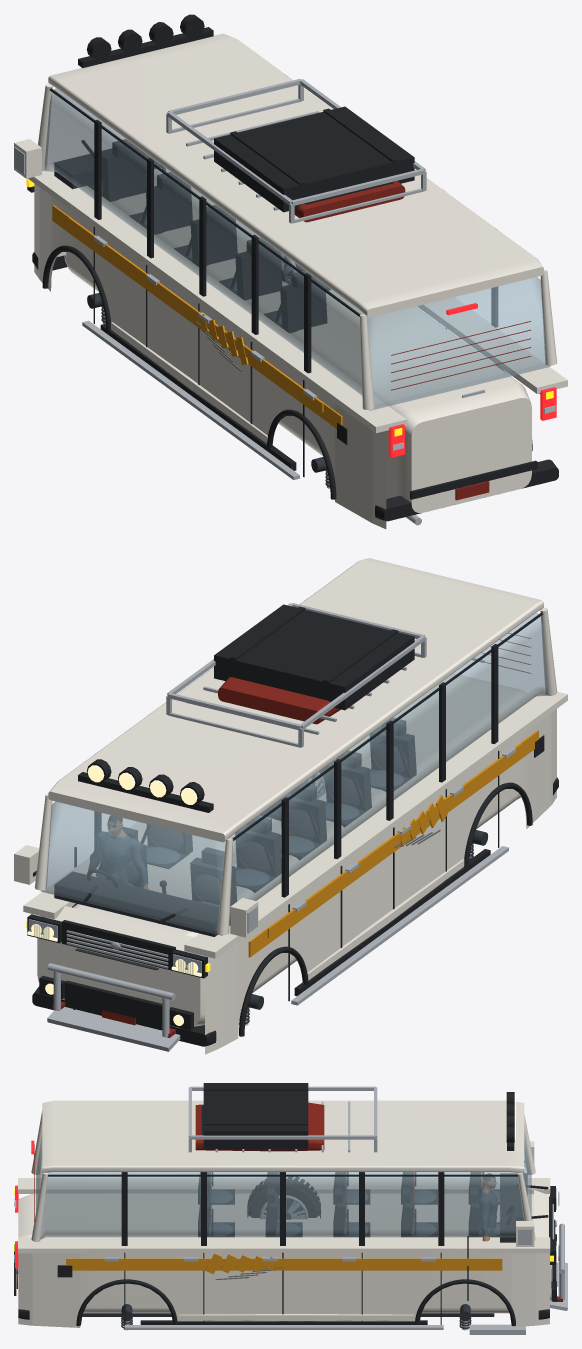
Rendered from tourist-coaster.glb.
3 views of the same model, one above another, from view 1: azimuth 30°, elevation 25°; view 2: azimuth 150°, elevation 25°; view 3: azimuth 270°, elevation 25° (orthographic). The views are drawn at different scales.
Visible parts, largest first — view 1: body_high, body_low, cosmetic_carrier, cosmetic_basket, cosmetic_lamps, cosmetic_trail (×2), cosmetic_stripe, cosmetic_summit; view 2: body_high, body_low, cosmetic_carrier, cosmetic_trail (×2), cosmetic_basket, cosmetic_lamps, cosmetic_stripe, cosmetic_summit; view 3: body_high, body_low, cosmetic_carrier, cosmetic_trail (×2), cosmetic_stripe, cosmetic_basket, wheel_high, cosmetic_summit, cosmetic_lamps.
Boxes of the visible parts, x1,y1,x2,y2 form: body_high: [14, 33, 567, 528]; body_low: [14, 88, 550, 524]; cosmetic_carrier: [214, 106, 414, 212]; cosmetic_basket: [166, 79, 426, 223]; cosmetic_lamps: [78, 14, 213, 68]; cosmetic_trail (×2): [82, 320, 299, 479]; cosmetic_stripe: [68, 217, 323, 412]; cosmetic_summit: [199, 314, 248, 364]; body_high: [14, 558, 567, 1054]; body_low: [28, 612, 547, 1033]; cosmetic_carrier: [214, 604, 414, 710]; cosmetic_trail (×2): [47, 846, 508, 1051]; cosmetic_basket: [166, 603, 426, 747]; cosmetic_lamps: [78, 759, 213, 812]; cosmetic_stripe: [267, 743, 522, 937]; cosmetic_summit: [399, 795, 447, 846]; body_high: [14, 1100, 562, 1334]; body_low: [16, 1137, 556, 1331]; cosmetic_carrier: [203, 1083, 308, 1148]; cosmetic_trail (×2): [124, 1223, 567, 1329]; cosmetic_stripe: [92, 1258, 475, 1265]; cosmetic_basket: [188, 1086, 377, 1152]; wheel_high: [247, 1177, 320, 1217]; cosmetic_summit: [205, 1253, 278, 1274]; cosmetic_lamps: [506, 1092, 515, 1150].
Size of what is drawn, in the model's own units: 2.53 by 2.73 by 6.88.
